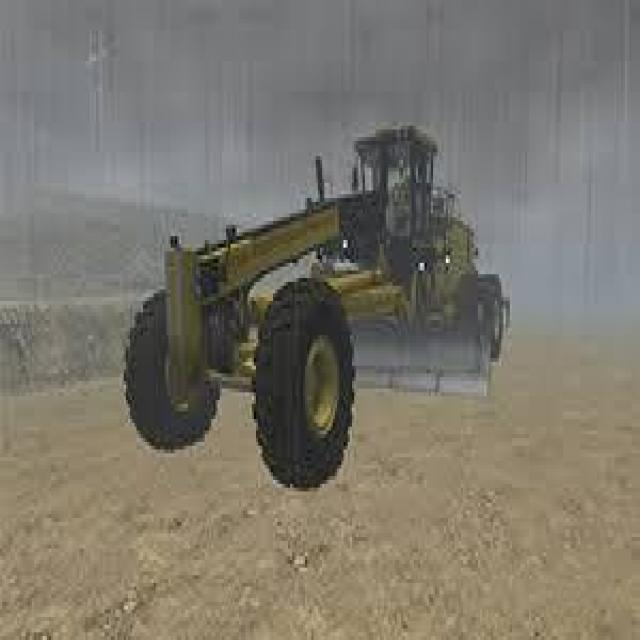Grader: (107, 103, 524, 522)
